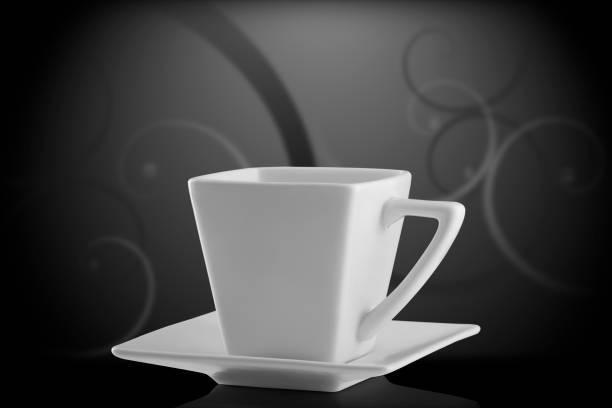cup-handle: (187, 164, 466, 364)
